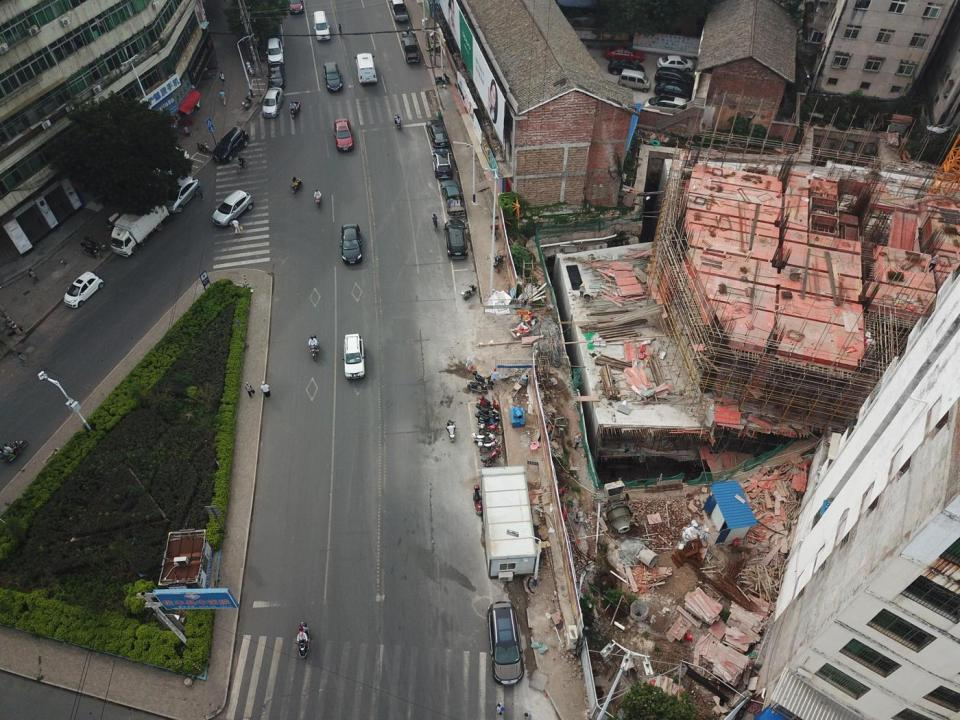car: (488, 601, 524, 687), (210, 190, 253, 228), (64, 270, 104, 308), (162, 175, 201, 212), (212, 126, 249, 163), (152, 146, 189, 178), (344, 333, 366, 380), (445, 219, 468, 260), (341, 223, 363, 264), (654, 67, 694, 87), (654, 80, 695, 99), (261, 86, 284, 118), (425, 119, 450, 148), (432, 148, 454, 180), (658, 54, 695, 72), (334, 118, 354, 151), (606, 46, 645, 62), (323, 61, 343, 92), (609, 60, 646, 74), (267, 38, 284, 65), (268, 62, 285, 87), (288, 0, 303, 15)
truck: (111, 201, 169, 256), (440, 179, 466, 217), (356, 52, 377, 84), (400, 37, 420, 63), (387, 0, 407, 21)
van: (617, 68, 651, 93), (642, 95, 688, 113), (312, 10, 330, 41)
